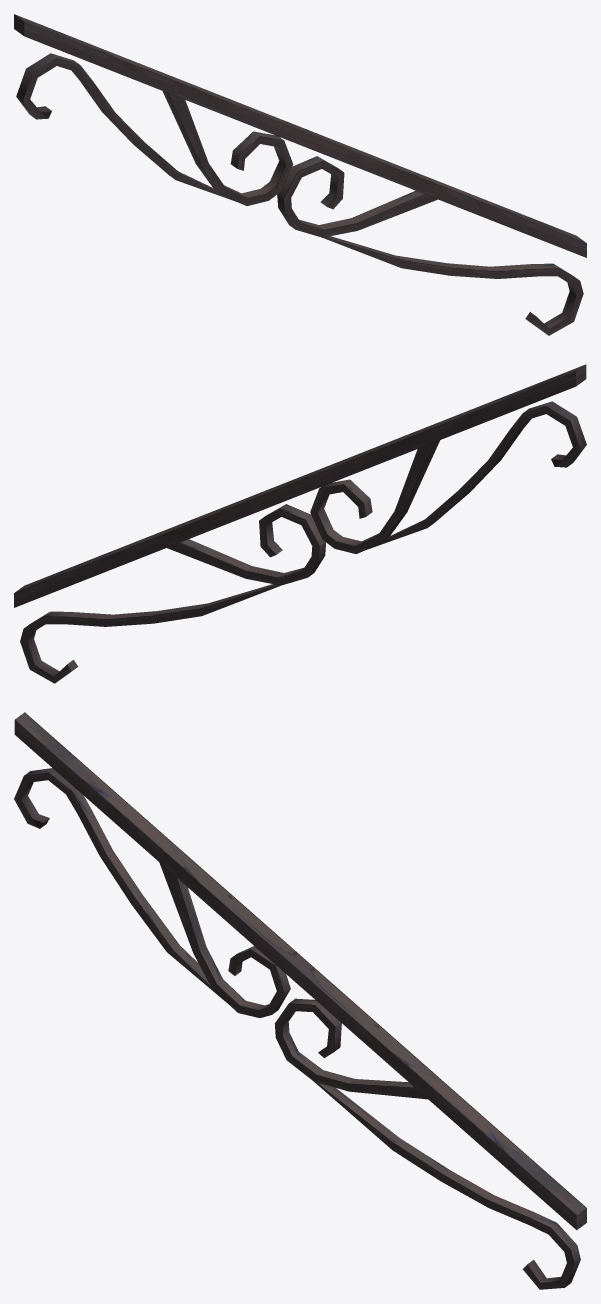
The model's file is 2_CZ_LanGan_01.FBX.
The picture shows the model from 3 angles, top to bottom: view 1: azimuth 30°, elevation 25°; view 2: azimuth 150°, elevation 25°; view 3: azimuth 330°, elevation 25°; orthographic projection.
Visible parts, largest first — view 1: 2_CZ_LanGan_01; view 2: 2_CZ_LanGan_01; view 3: 2_CZ_LanGan_01.
Part boxes in pixels (x1,y1,x2,y2): 2_CZ_LanGan_01: (14, 14, 586, 335); 2_CZ_LanGan_01: (14, 364, 586, 683); 2_CZ_LanGan_01: (14, 712, 586, 1289).
Bounding box in the file's own units: 476 × 358 × 15.04.
